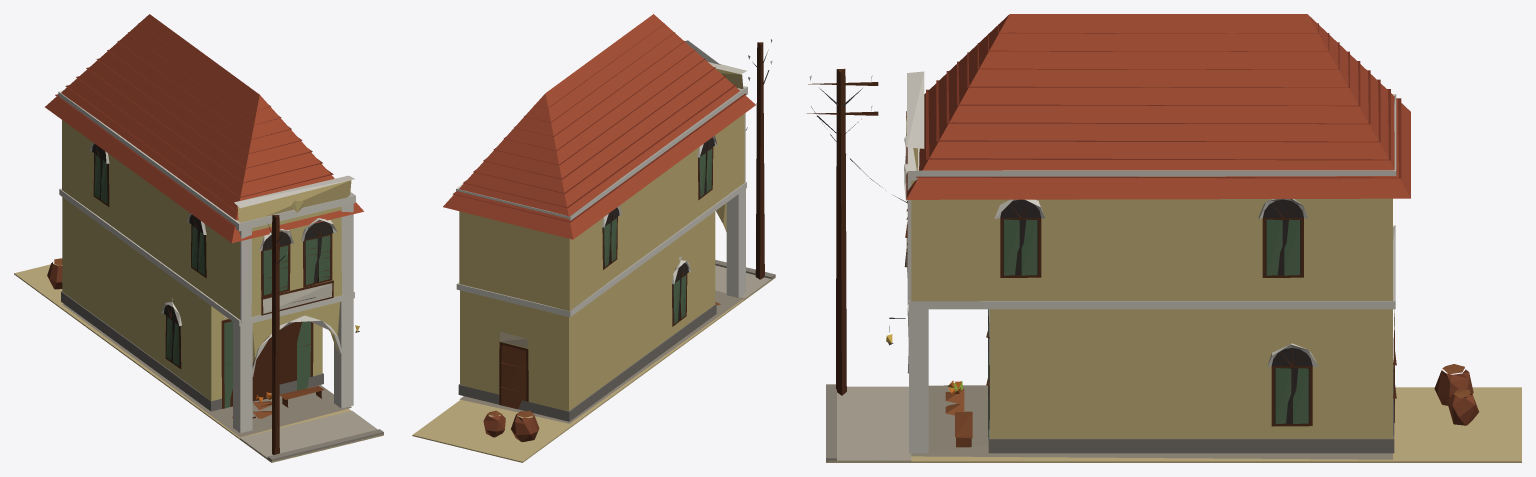
File: bay1_one.glb
3 views of the same model, side by side, from view 1: azimuth 30°, elevation 25°; view 2: azimuth 150°, elevation 25°; view 3: azimuth 270°, elevation 25° (orthographic). The views are drawn at different scales.
Parts seen in each view (by area): view 1: body, windows; view 2: body, windows; view 3: body, windows.
Boxes of the visible parts, bbox=[...] form: body: bbox=[14, 14, 383, 462]; windows: bbox=[92, 143, 359, 366]; body: bbox=[412, 14, 775, 462]; windows: bbox=[603, 137, 714, 323]; body: bbox=[807, 14, 1521, 462]; windows: bbox=[886, 199, 1312, 423].
Bounding box in the file's own units: 4.75 × 10.39 × 16.4.
